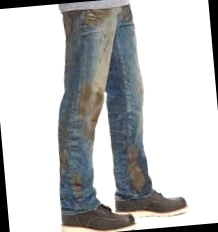earth: (78, 85, 104, 115), (56, 127, 70, 172), (131, 147, 142, 187), (86, 8, 107, 27), (73, 176, 84, 193), (121, 5, 129, 18)
